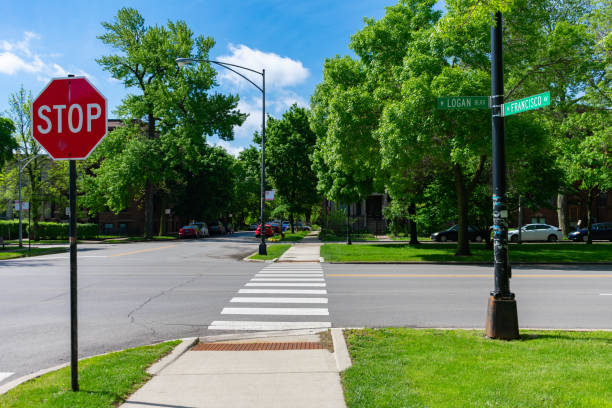StopSign: (30, 75, 107, 160)
